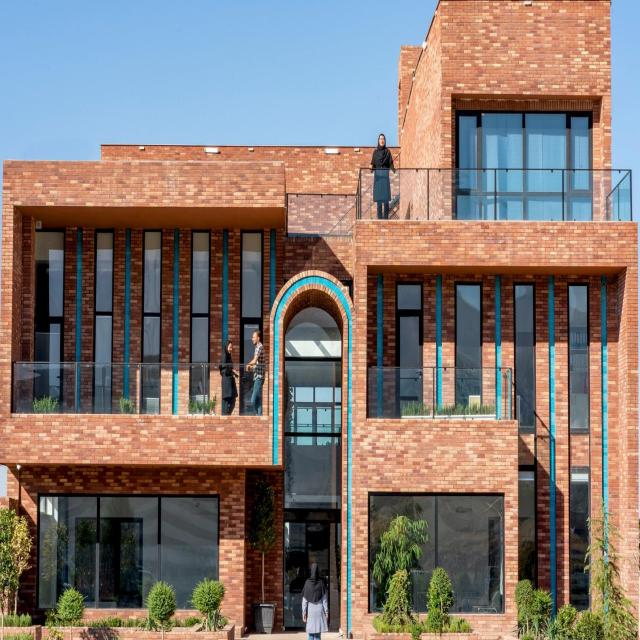door: (284, 300, 339, 629)
railing: (13, 359, 259, 422), (362, 166, 632, 219), (367, 364, 513, 417), (285, 192, 355, 231)
window: (36, 495, 218, 610), (371, 488, 503, 612), (455, 111, 594, 168), (35, 228, 66, 359), (512, 286, 536, 428), (240, 230, 262, 363), (569, 280, 587, 432), (92, 230, 113, 360), (572, 466, 590, 609), (143, 229, 162, 363), (192, 229, 209, 363), (456, 283, 483, 367), (397, 284, 423, 364), (520, 472, 536, 587)
